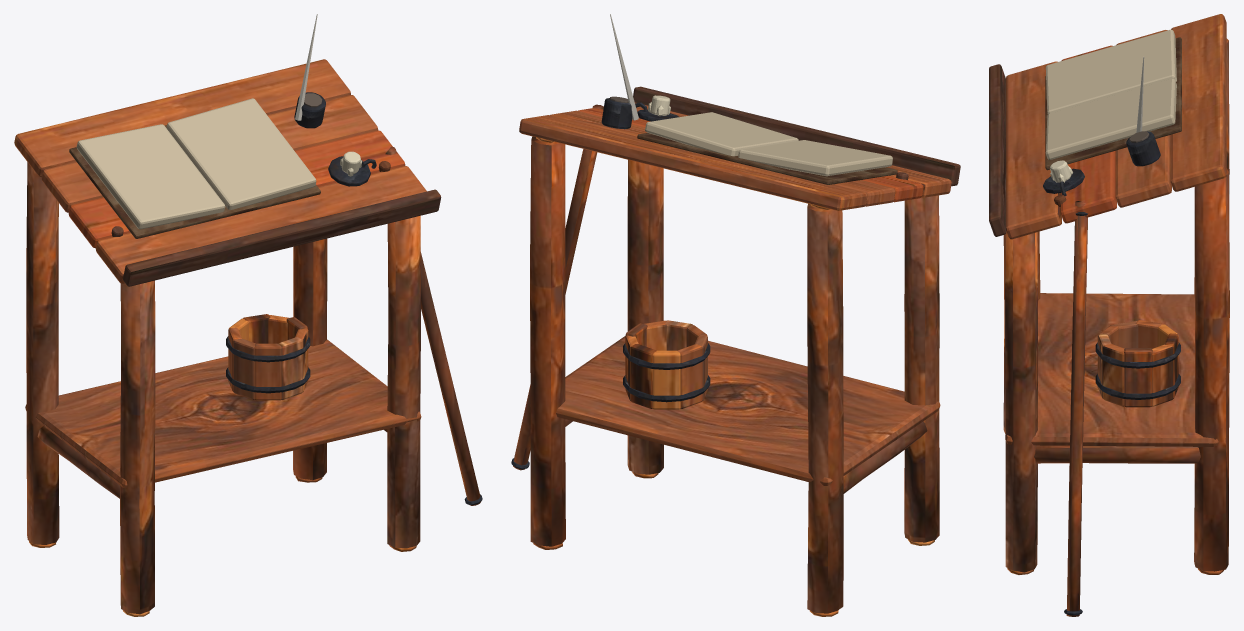
File: mp_foreman_desk.glb
3 views of the same model, side by side, from view 1: azimuth 30°, elevation 25°; view 2: azimuth 150°, elevation 25°; view 3: azimuth 270°, elevation 25° (orthographic). The views are drawn at different scales.
Visible parts, largest first — view 1: model; view 2: model; view 3: model.
Part boxes in pixels (x1,y1,x2,y2): model: [14, 14, 482, 616]; model: [511, 14, 960, 616]; model: [989, 14, 1229, 616].
Bounding box in the file's own units: 1.06 × 1.27 × 0.5561.
23 materials, 19 textured.
